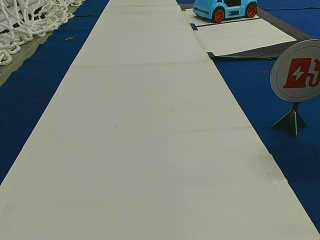battery: (271, 40, 319, 104)
car: (193, 0, 258, 22)
